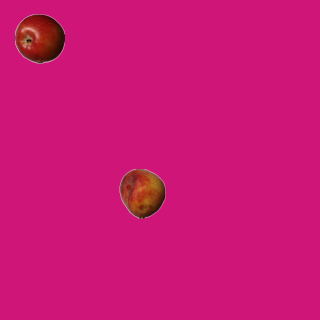Apple Braeburn: (14, 13, 64, 63)
Peach: (117, 168, 167, 218)
